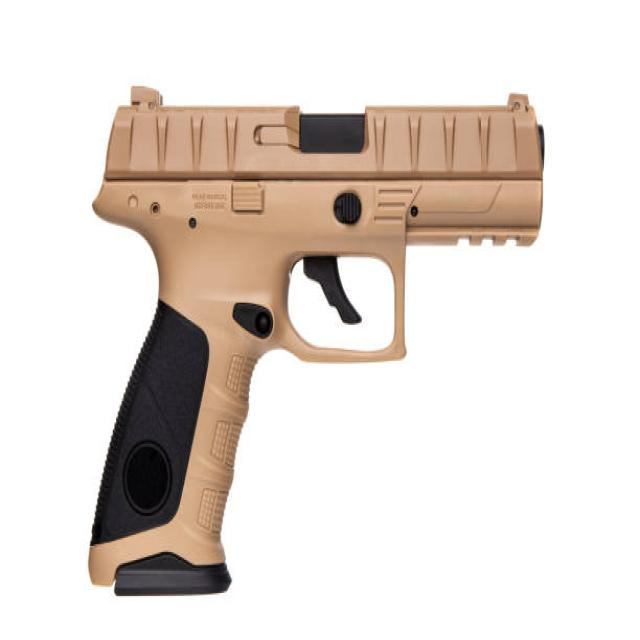pistol: (85, 82, 549, 607)
